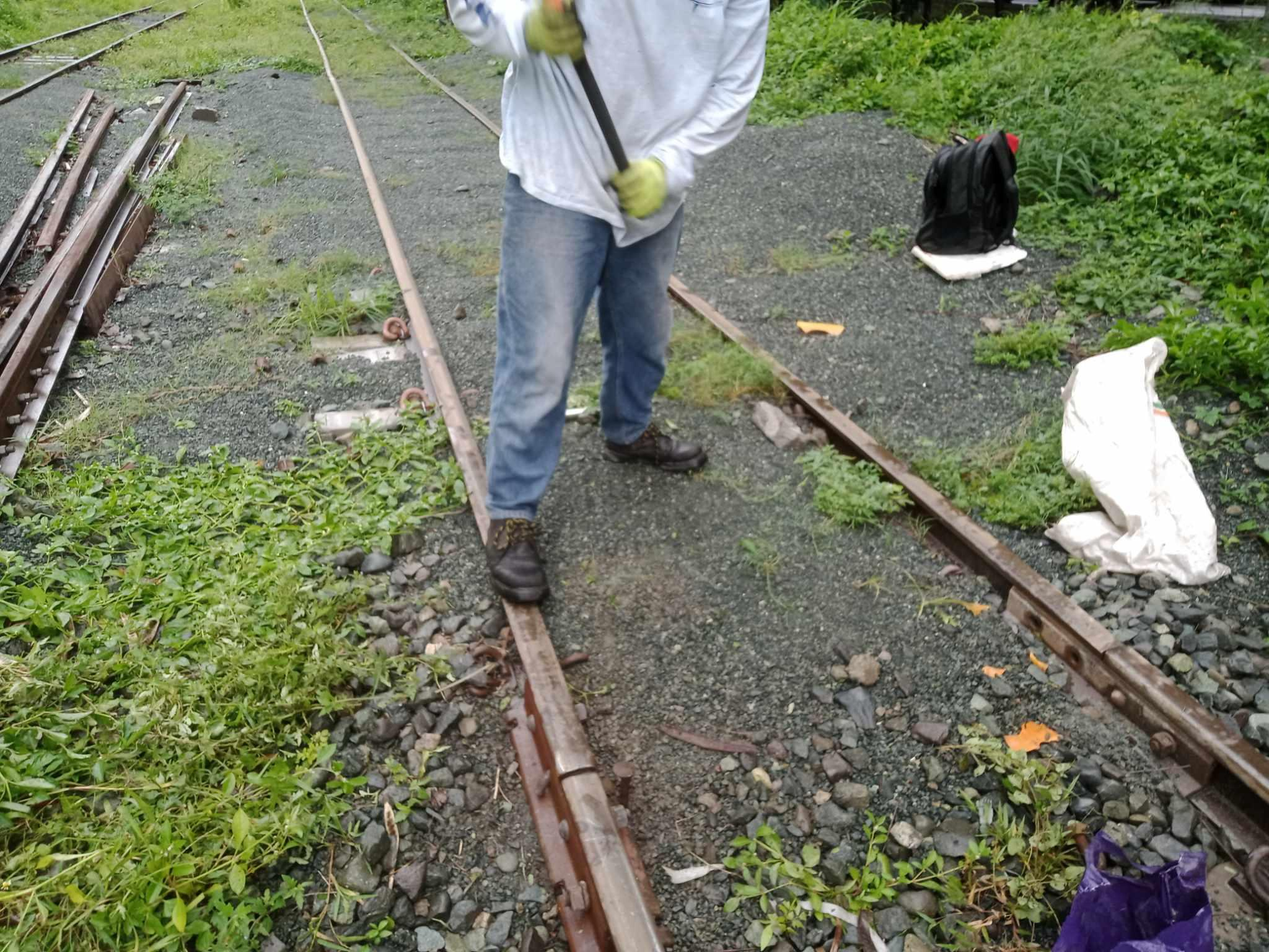railway-gap: (517, 721, 641, 817), (1060, 605, 1155, 695)
